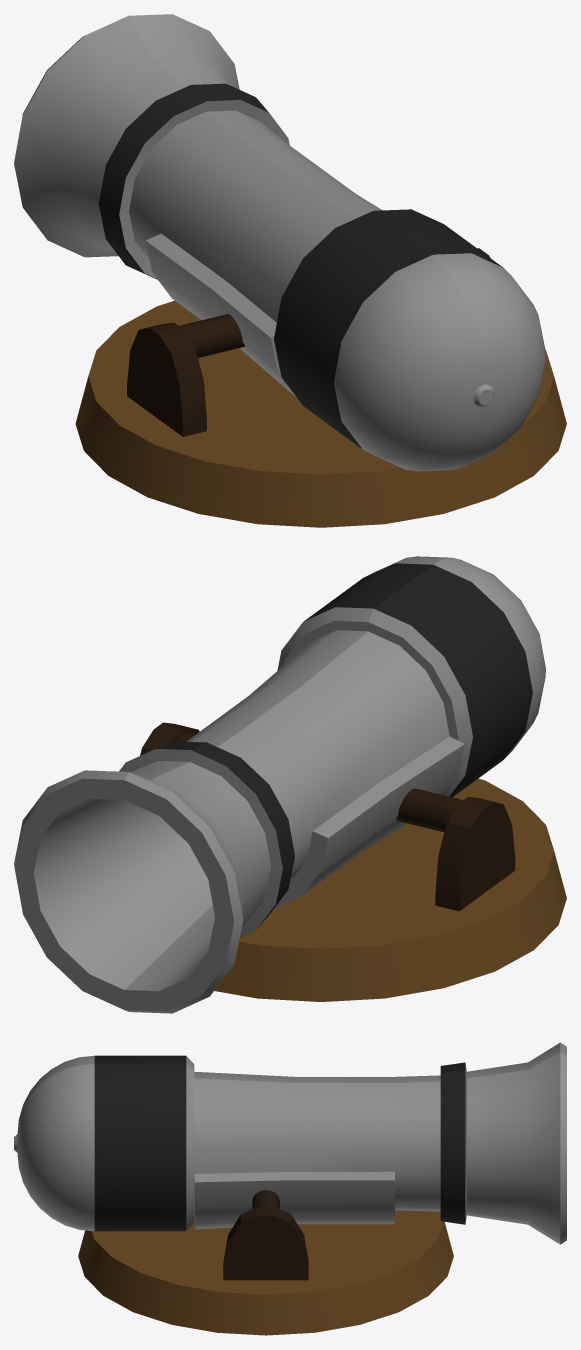
The model's file is Canion.fbx.
The picture shows the model from 3 angles, top to bottom: view 1: azimuth 30°, elevation 25°; view 2: azimuth 150°, elevation 25°; view 3: azimuth 270°, elevation 25°; orthographic projection. The views are drawn at different scales.
Parts seen in each view (by area): view 1: Canon; view 2: Canon; view 3: Canon.
Part boxes in pixels (<box>): Canon: <box>14,14,566,527</box>; Canon: <box>14,556,566,1013</box>; Canon: <box>14,1042,566,1335</box>.
Bounding box in the file's own units: 136 × 81.64 × 200.
1 material, 1 textured.
